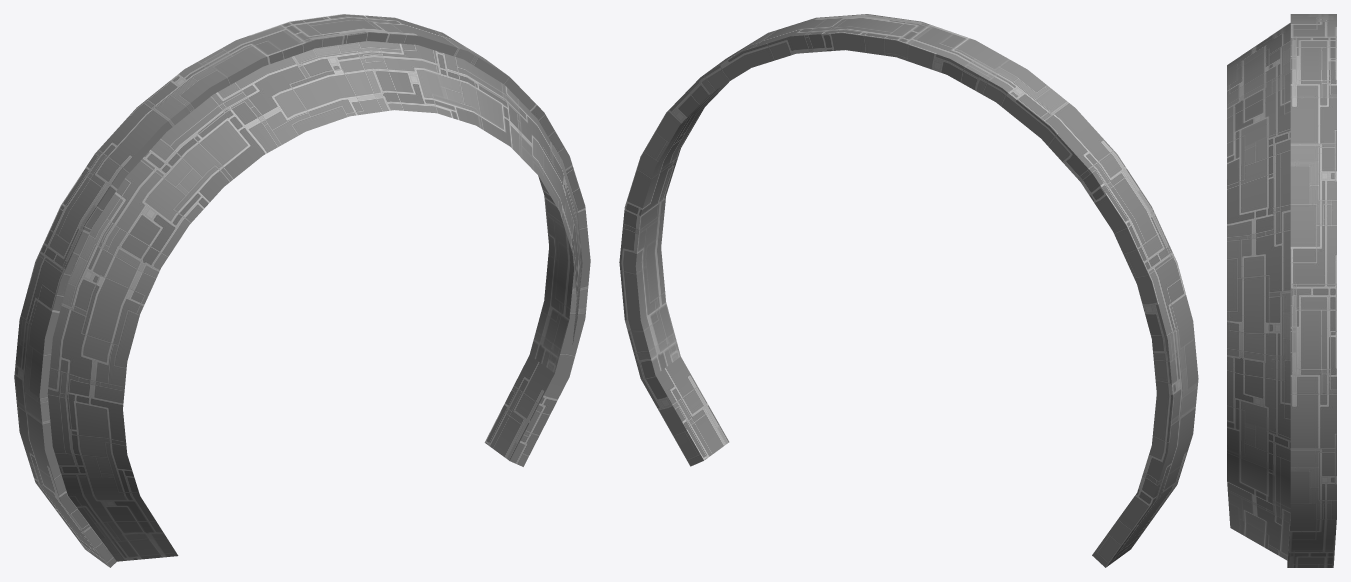
File: SM_arch_04.glb
3 renders of one model, left to right at view 1: azimuth 30°, elevation 25°; view 2: azimuth 150°, elevation 25°; view 3: azimuth 270°, elevation 25°, orthographic. The views are drawn at different scales.
Parts seen in each view (by area): view 1: SM_arch_04; view 2: SM_arch_04; view 3: SM_arch_04.
Part boxes in pixels (x1=…): SM_arch_04: x1=14, y1=14, x2=590, y2=567; SM_arch_04: x1=619, y1=14, x2=1198, y2=567; SM_arch_04: x1=1227, y1=14, x2=1336, y2=567.
Bounding box in the file's own units: 7.48 × 6.17 × 1.41.
2 materials, 2 textured.
